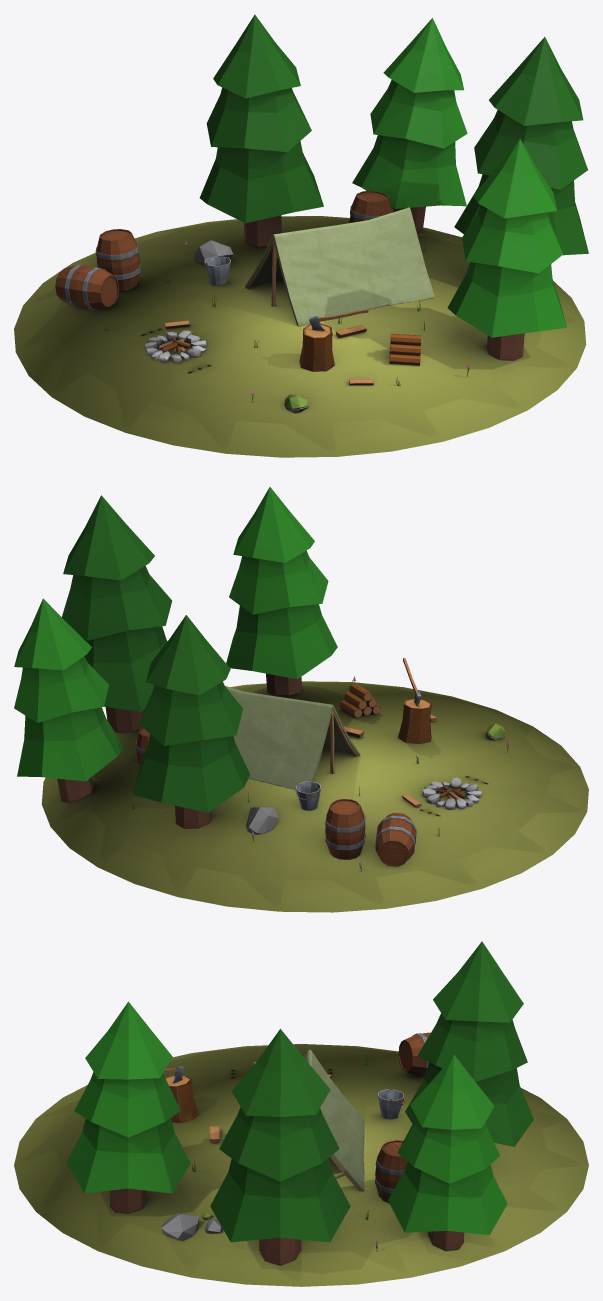
File: camp_fire.glb
3 renders of one model, top to bottom at view 1: azimuth 30°, elevation 25°; view 2: azimuth 150°, elevation 25°; view 3: azimuth 270°, elevation 25°, orthographic. The views are drawn at different scales.
Visible parts, largest first — view 1: Object001_Object001_mtl_0; view 2: Object001_Object001_mtl_0; view 3: Object001_Object001_mtl_0.
Boxes of the visible parts, x1,y1,x2,y2 form: Object001_Object001_mtl_0: (14,14,588,457); Object001_Object001_mtl_0: (14,487,588,912); Object001_Object001_mtl_0: (14,941,588,1286).
Size of the model in its own units: 10.52 by 4.84 by 10.04.
Materials: 1 (1 with a texture image).
